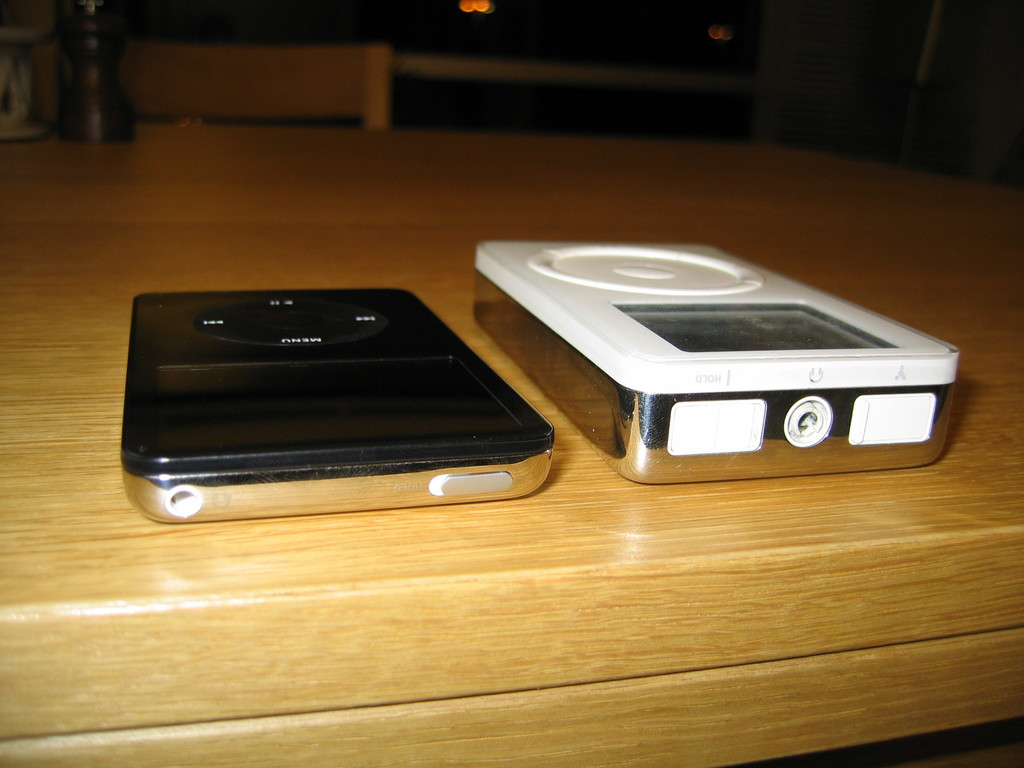mobile phone: (98, 279, 549, 504)
